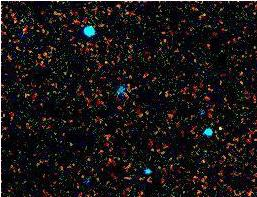star: (209, 113, 239, 143)
